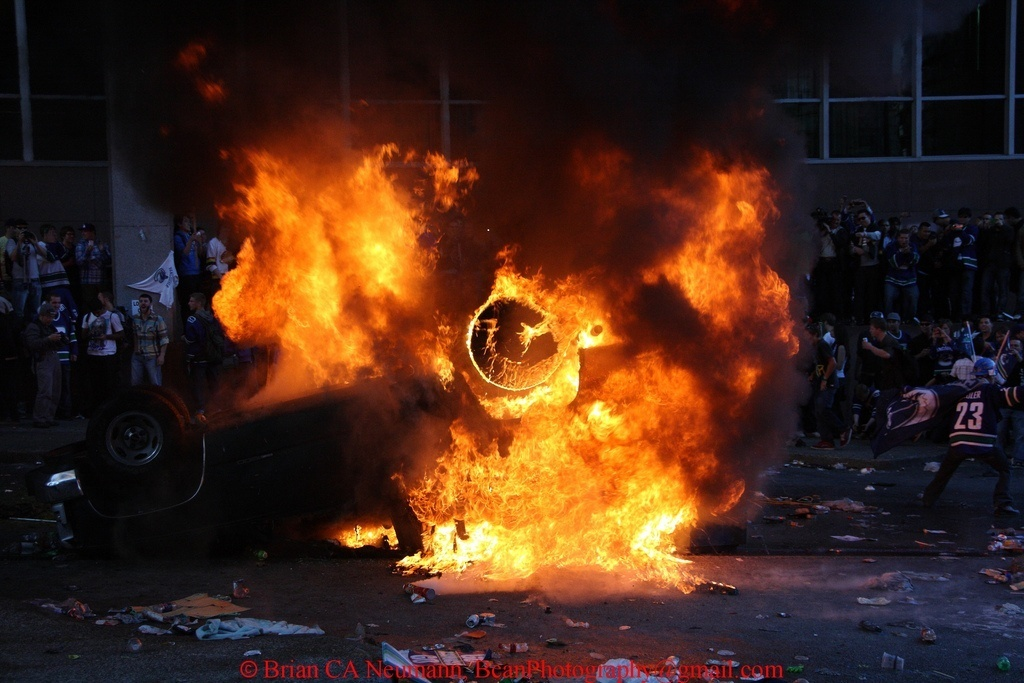fire: (221, 125, 816, 599)
